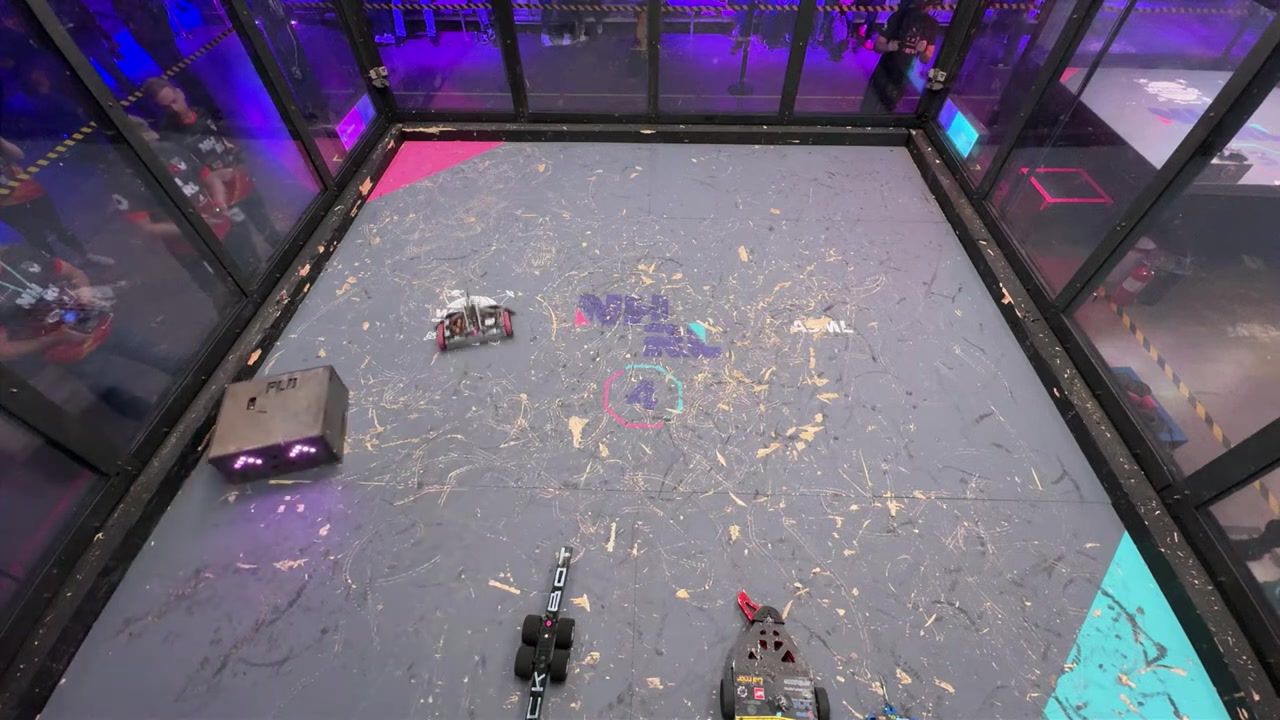combatbot: (720, 605, 832, 720), (434, 298, 514, 349)
housebot: (208, 366, 352, 485)
minibot: (517, 614, 574, 684)
